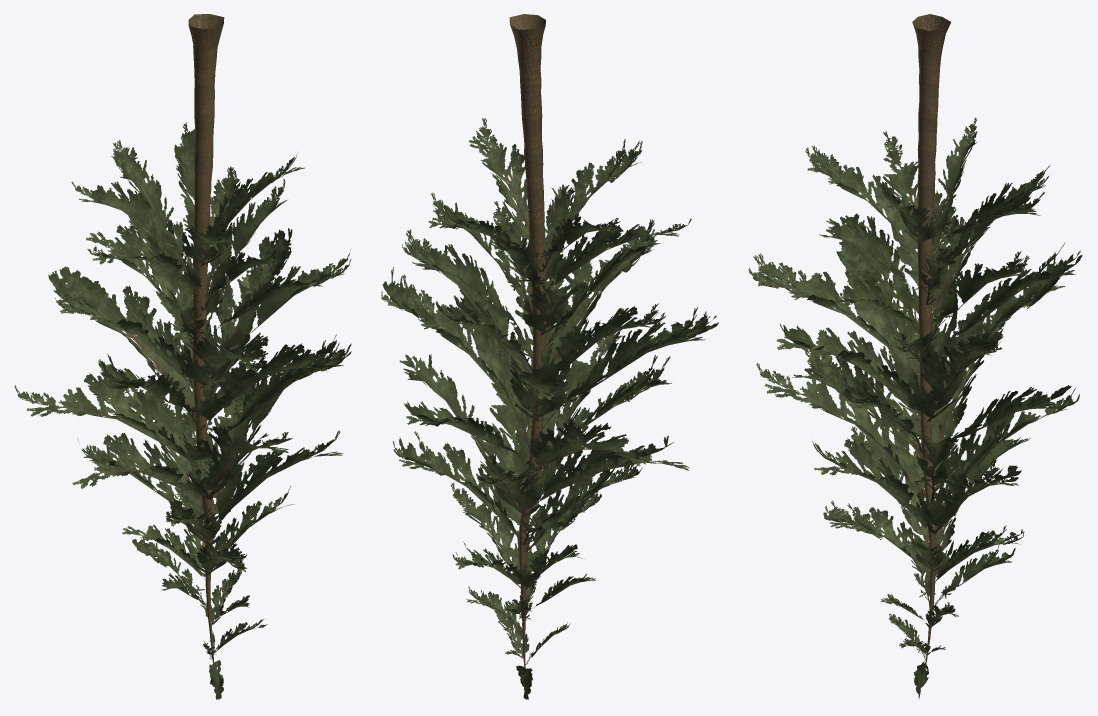
Rendered from BIO_VEG_SpruceTree_01C.fbx.
3 views of the same model, side by side, from view 1: azimuth 30°, elevation 25°; view 2: azimuth 150°, elevation 25°; view 3: azimuth 270°, elevation 25° (orthographic).
Parts seen in each view (by area): view 1: BIO_VEG_SpruceTree_01C; view 2: BIO_VEG_SpruceTree_01C; view 3: BIO_VEG_SpruceTree_01C.
Part boxes in pixels (<box>): BIO_VEG_SpruceTree_01C: <box>14,14,351,699</box>; BIO_VEG_SpruceTree_01C: <box>381,14,718,699</box>; BIO_VEG_SpruceTree_01C: <box>748,14,1082,698</box>.
Bounding box in the file's own units: 513 × 1162 × 523.
